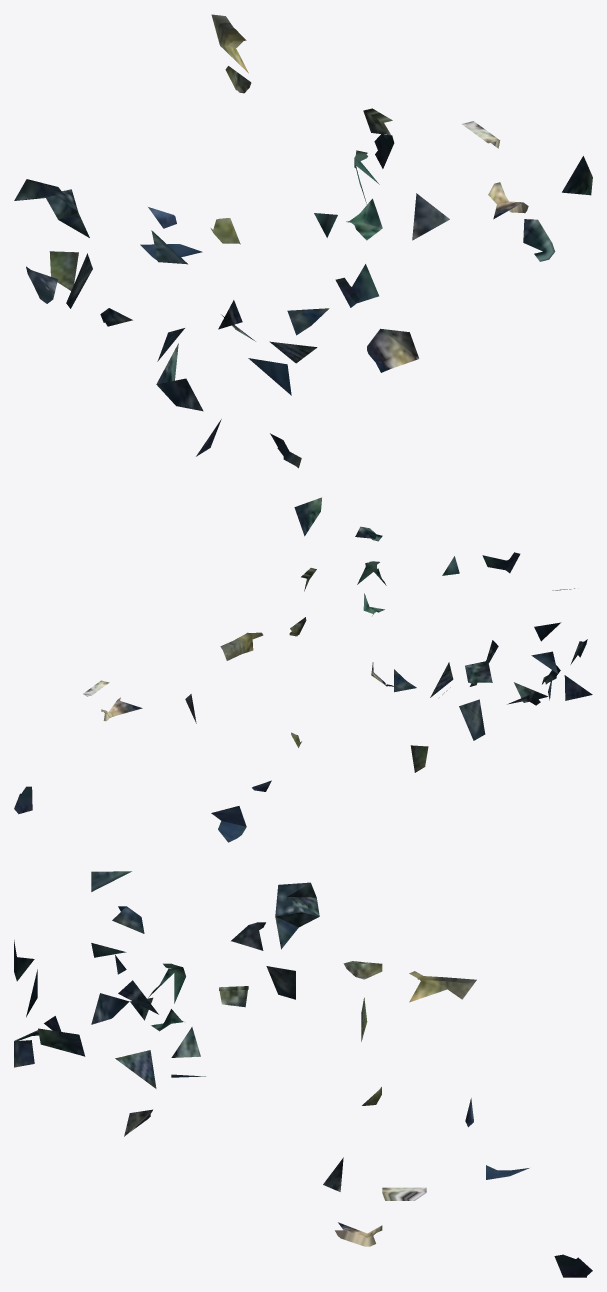
The picture shows the model from 3 angles, top to bottom: view 1: azimuth 30°, elevation 25°; view 2: azimuth 150°, elevation 25°; view 3: azimuth 270°, elevation 25°; orthographic projection. The views are drawn at different scales.
Visible parts, largest first — view 1: 30436272704370404631_1; view 2: 30436272704370404631_1; view 3: 30436272704370404631_1.
Boxes of the visible parts, <box> form: 30436272704370404631_1: <box>14,14,592,468</box>; 30436272704370404631_1: <box>14,497,592,842</box>; 30436272704370404631_1: <box>14,871,592,1277</box>.
Size of the model in its own units: 27.31 by 11.87 by 30.08.
Materials: 1 (1 with a texture image).
